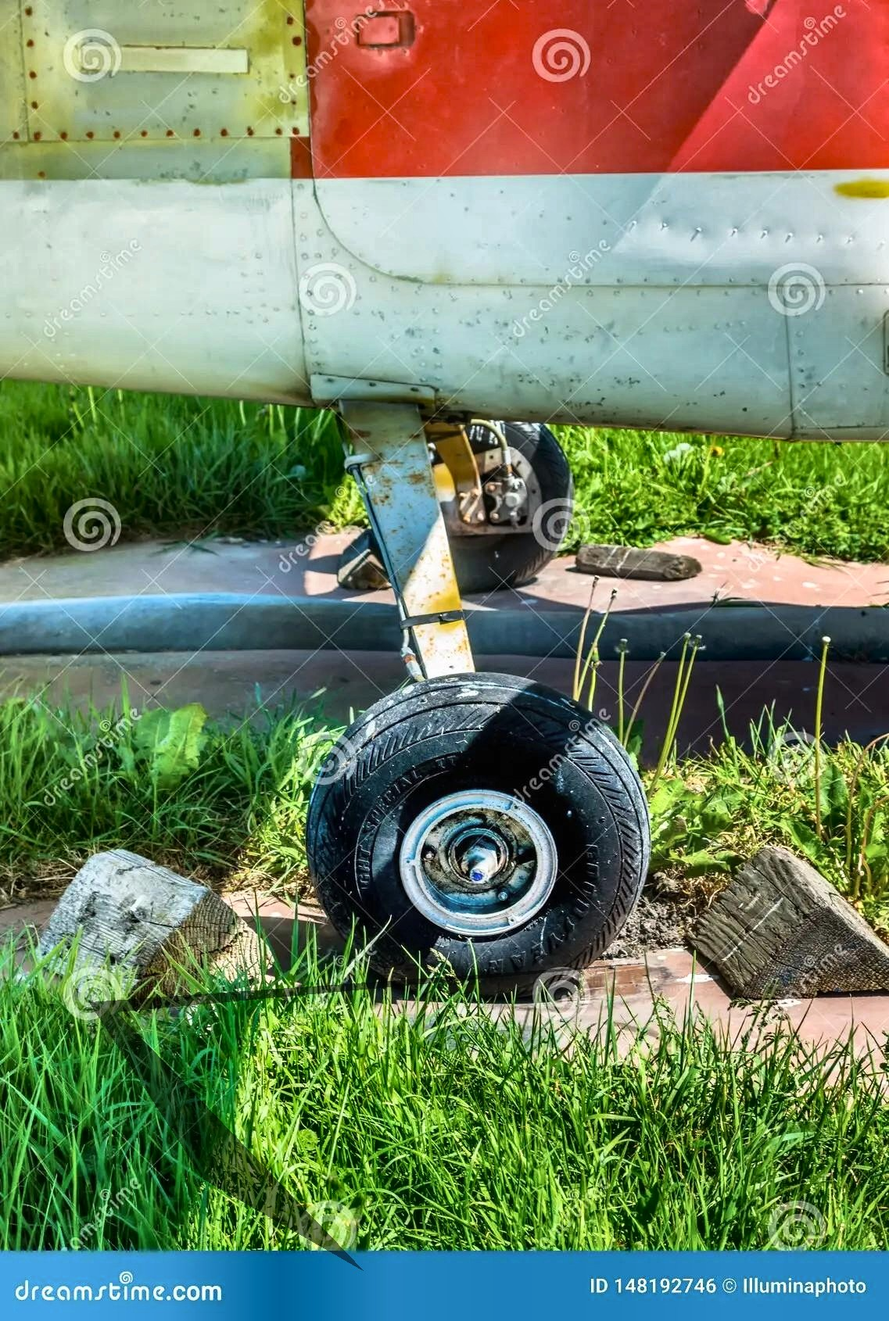chock: (23, 831, 276, 1016), (682, 831, 889, 1012), (334, 516, 393, 596)
wheel: (303, 675, 646, 993), (444, 419, 570, 587)
